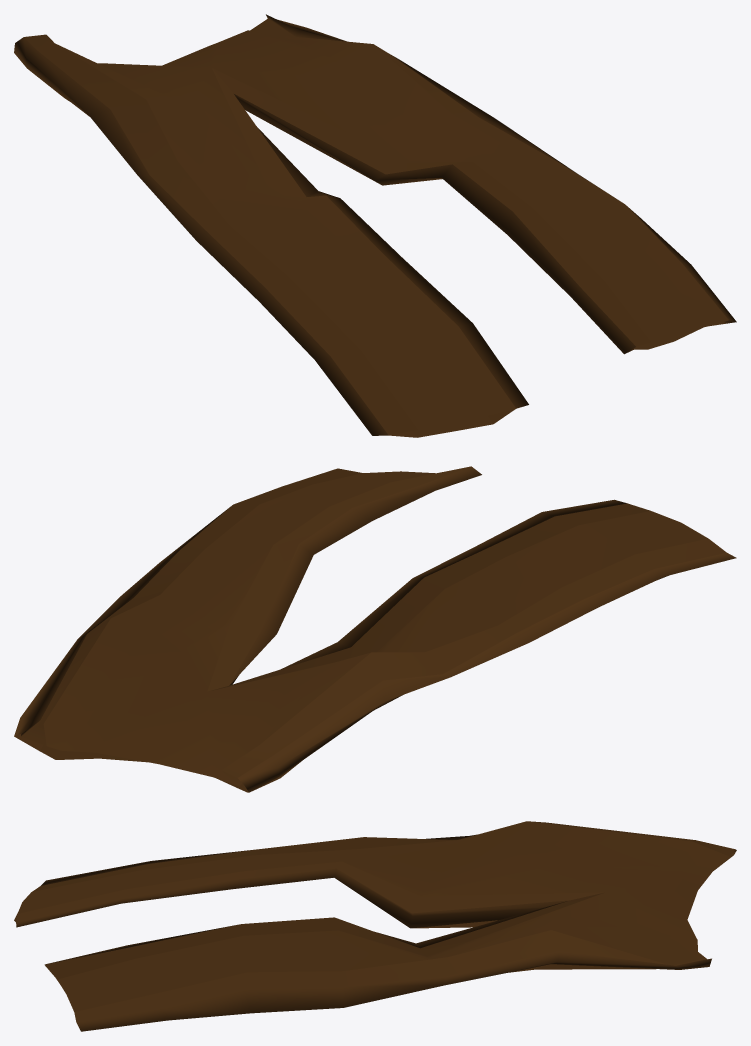
The model's file is crumple trouusers.fbx.
3 renders of one model, top to bottom at view 1: azimuth 30°, elevation 25°; view 2: azimuth 150°, elevation 25°; view 3: azimuth 270°, elevation 25°, orthographic. The views are drawn at different scales.
Visible parts, largest first — view 1: Box002; view 2: Box002; view 3: Box002.
Part boxes in pixels (bbox=[...]): Box002: bbox=[14, 14, 736, 437]; Box002: bbox=[14, 466, 736, 792]; Box002: bbox=[14, 821, 736, 1031].
Bounding box in the file's own units: 42.62 × 11.3 × 82.7.
